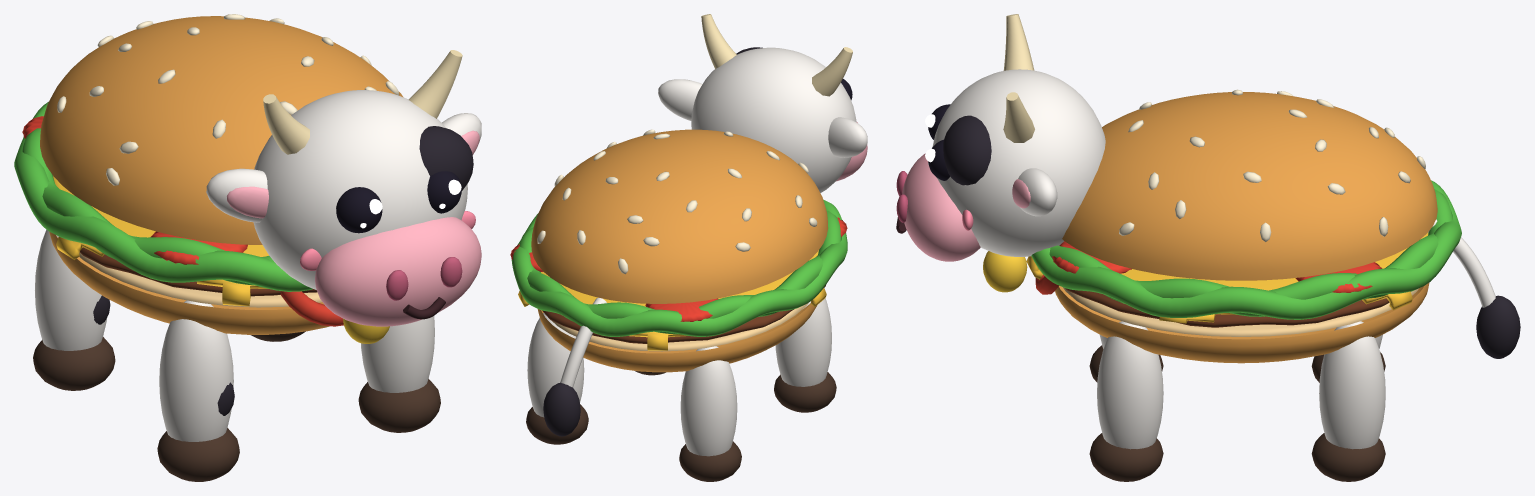
Rendered from pilot_ku_burger.glb.
The picture shows the model from 3 angles, left to right: view 1: azimuth 30°, elevation 25°; view 2: azimuth 150°, elevation 25°; view 3: azimuth 270°, elevation 25°; orthographic projection. The views are drawn at different scales.
Visible parts, largest first — view 1: kropp, hode, bein_vf, bein_vb, bein_hf; view 2: kropp, hode, bein_vb, bein_vf, bein_hb, hale; view 3: kropp, hode, bein_hb, bein_hf, hale.
Part boxes in pixels (box(x1,y1,x2,y2)): kropp: box(14, 14, 403, 334); hode: box(206, 50, 481, 343); bein_vf: box(157, 300, 239, 481); bein_vb: box(33, 229, 115, 390); bein_hf: box(358, 316, 440, 432); kropp: box(510, 129, 847, 372); hode: box(658, 14, 867, 192); bein_vb: box(679, 346, 741, 481); bein_vf: box(774, 298, 836, 412); bein_hb: box(526, 313, 588, 444); hale: box(543, 297, 606, 436); kropp: box(1026, 89, 1461, 363); hode: box(896, 14, 1105, 294); bein_hb: box(1311, 321, 1385, 481); bein_hf: box(1089, 321, 1163, 481); hale: box(1428, 219, 1520, 358).
Bounding box in the file's own units: 1.02 × 1.13 × 1.69.
